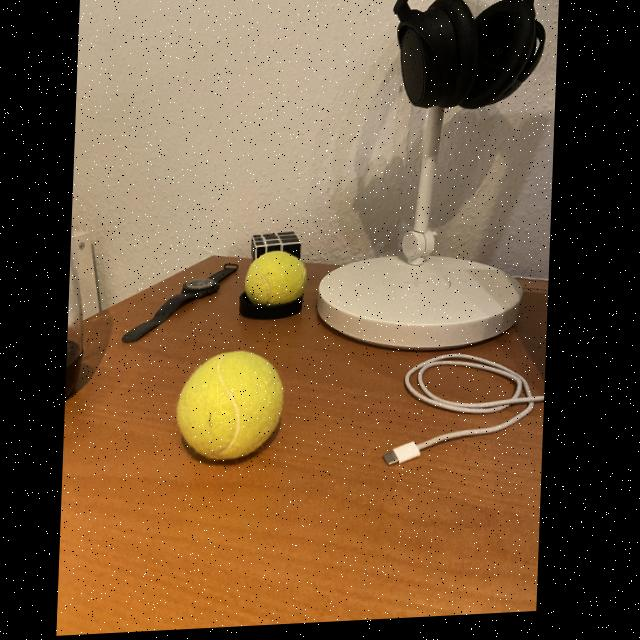Tennisball: (177, 351, 284, 460), (245, 251, 306, 305)
